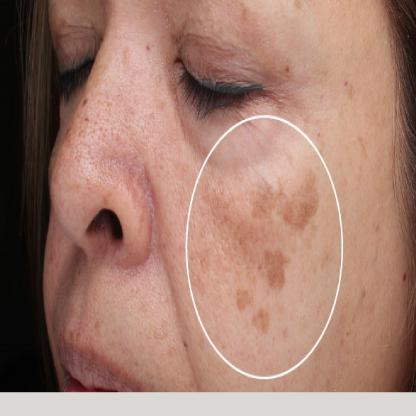darkspot: (212, 160, 325, 342), (77, 89, 156, 212), (116, 25, 152, 77), (336, 42, 359, 100), (353, 285, 371, 333), (292, 1, 321, 22), (178, 326, 192, 364), (356, 131, 370, 164), (238, 5, 255, 25), (369, 216, 383, 240), (284, 58, 294, 80)
puffyeye: (178, 89, 280, 150)
